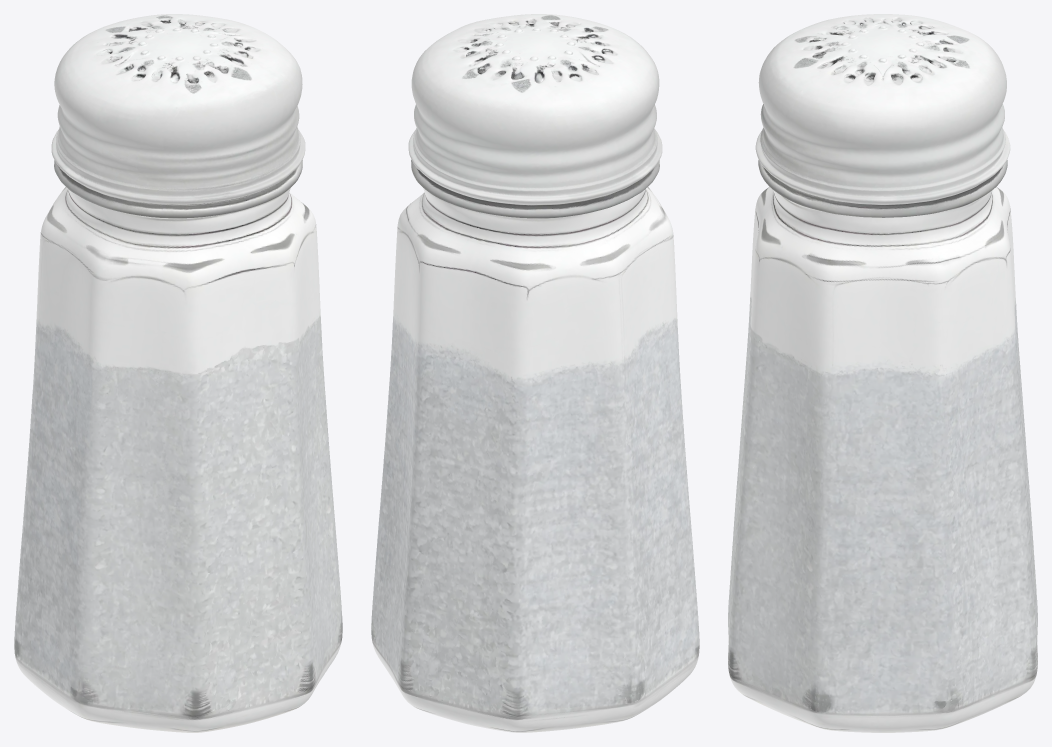
Rendered from salt.glb.
3 renders of one model, left to right at view 1: azimuth 30°, elevation 25°; view 2: azimuth 150°, elevation 25°; view 3: azimuth 270°, elevation 25°, orthographic.
Size of the model in its own units: 0.8382 by 1.9 by 0.8382.
1 material, 1 textured.
